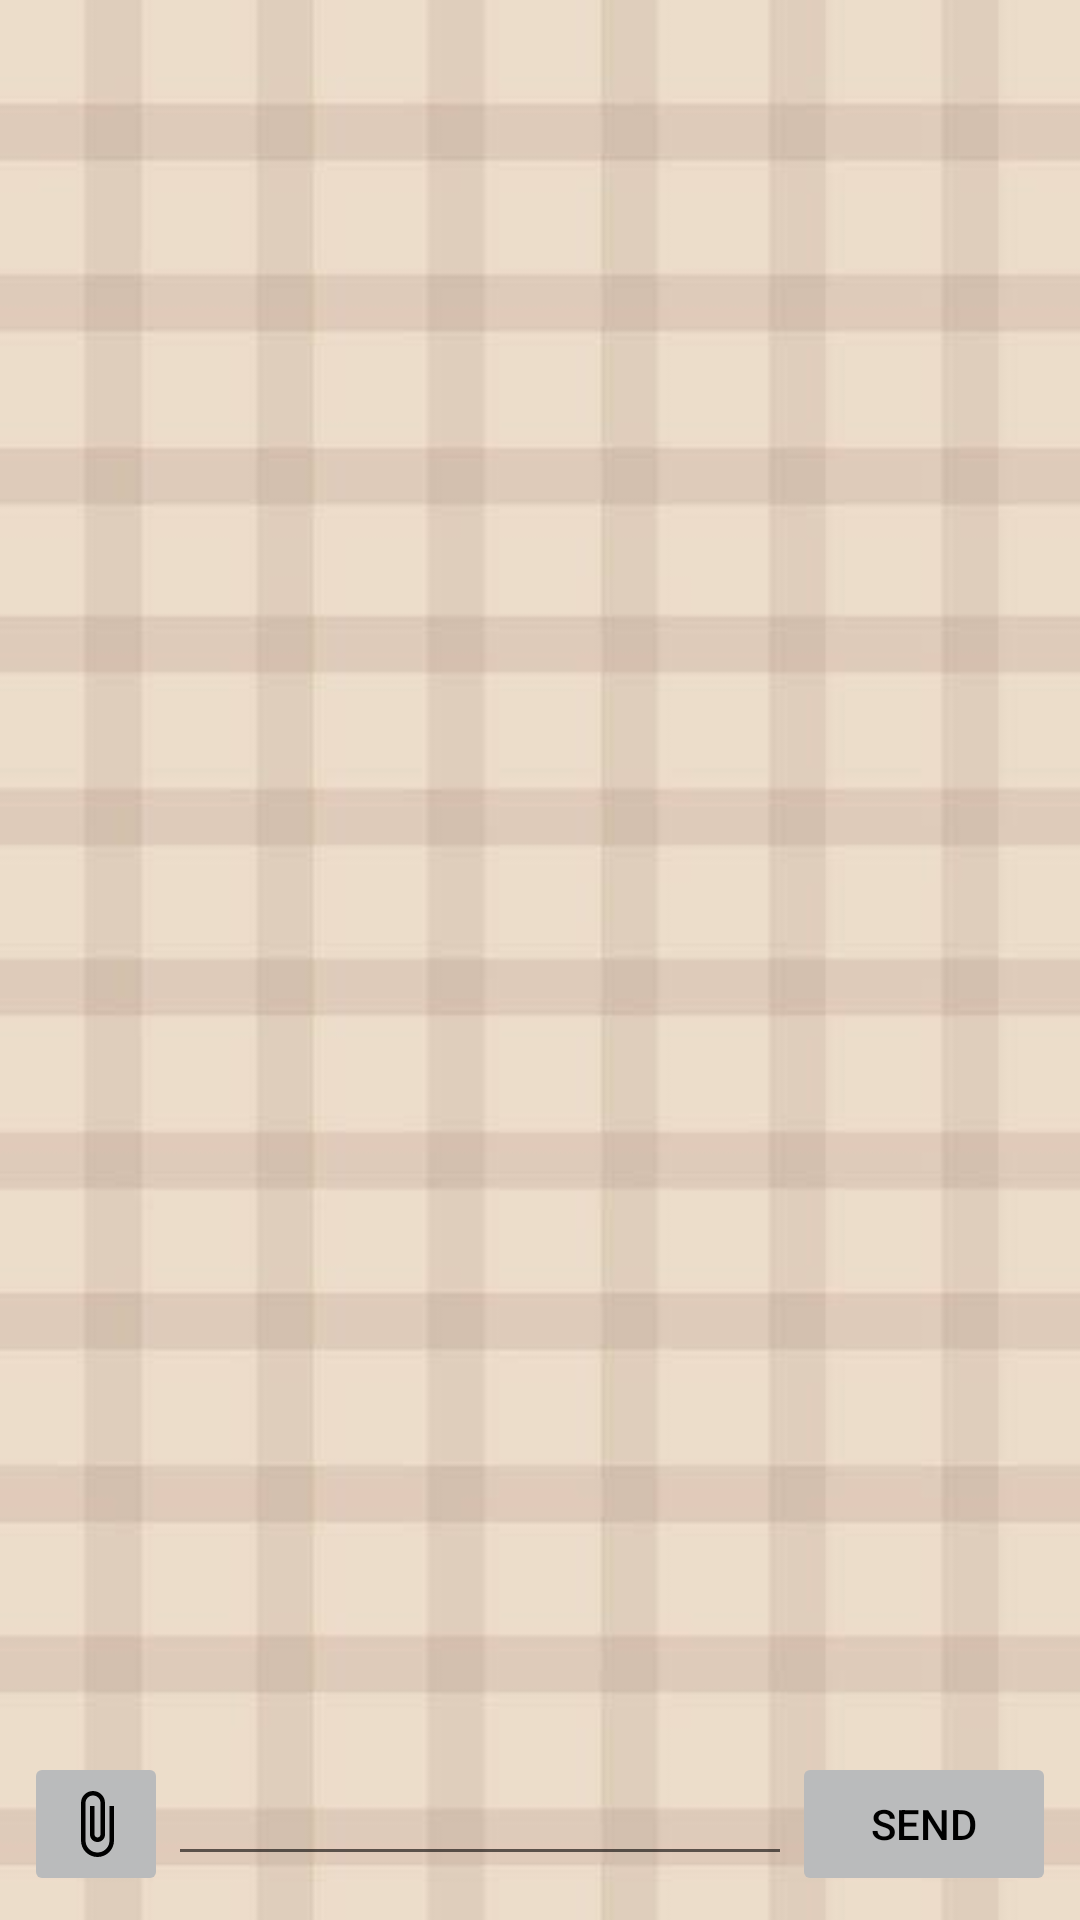

Icon click points for this 1080*1920 phone screenshot, format (x=x, y=y):
attach file: (x=96, y=1824)
